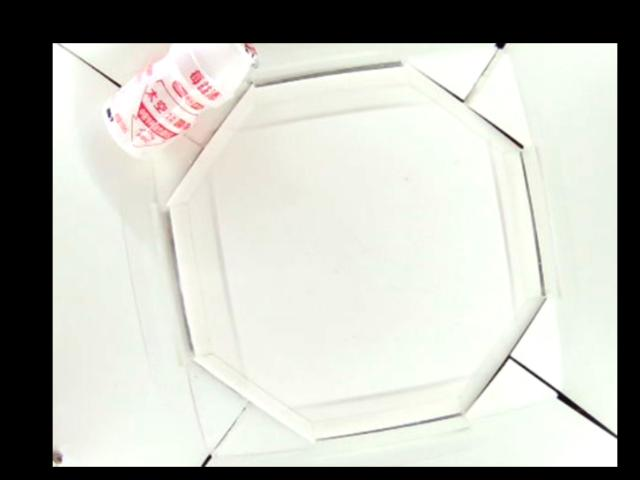Bottle: (98, 44, 259, 154)
